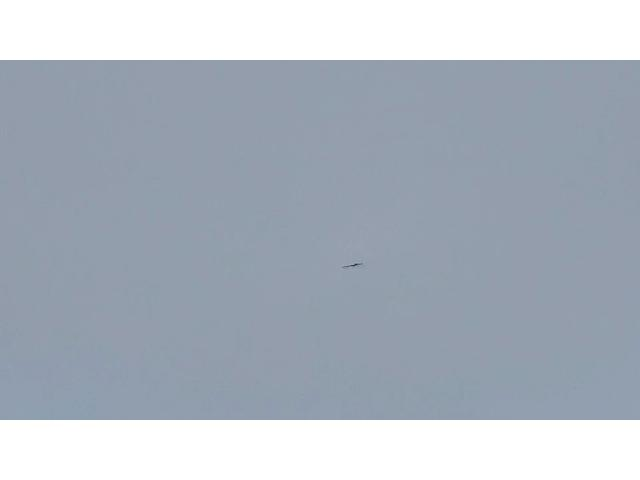Anti-Drone: (340, 262, 364, 269)
